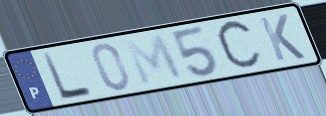0: (90, 41, 132, 93)
5: (168, 24, 221, 79)
C: (214, 17, 265, 75)
K: (256, 12, 308, 63)
L: (39, 50, 96, 103)
M: (121, 32, 188, 88)
